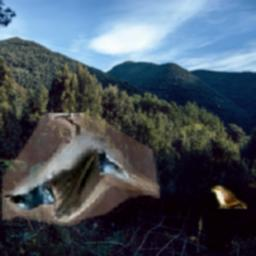Cuckoo: (213, 186, 248, 210)
Swallow: (2, 113, 160, 226)
